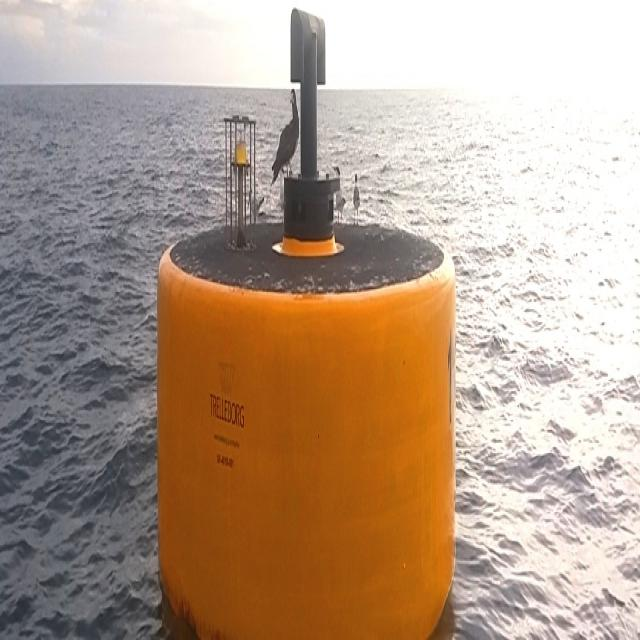buoy: (154, 8, 456, 636)
